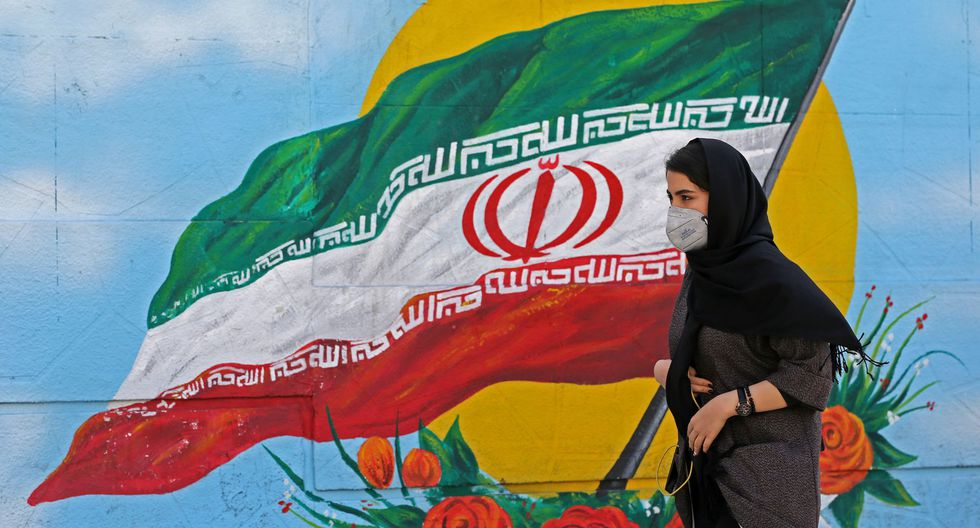with_mask: (661, 143, 751, 258)
